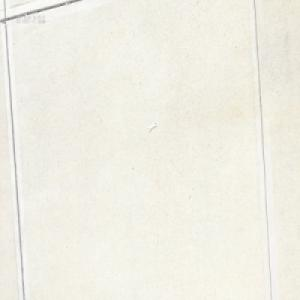Wrench: (147, 122, 156, 132)
